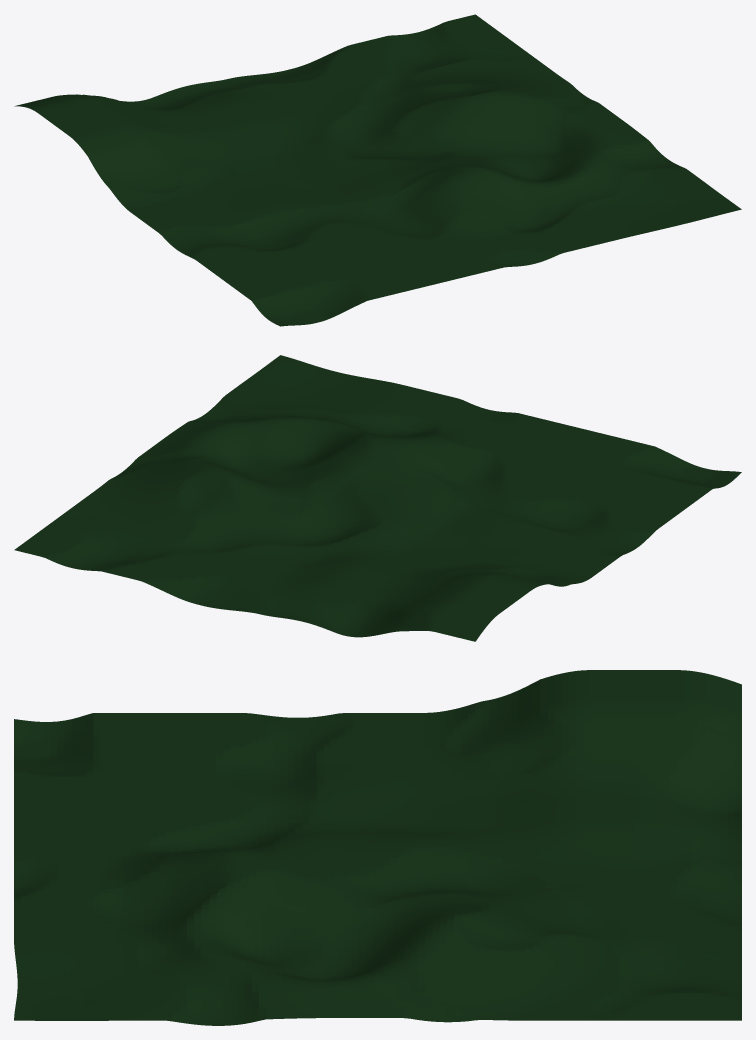
File: terrain.obj
3 renders of one model, top to bottom at view 1: azimuth 30°, elevation 25°; view 2: azimuth 150°, elevation 25°; view 3: azimuth 270°, elevation 25°, orthographic. The views are drawn at different scales.
Visible parts, largest first — view 1: Plane_Plane.001; view 2: Plane_Plane.001; view 3: Plane_Plane.001.
Boxes of the visible parts, <box> form: Plane_Plane.001: <box>14,14,741,326</box>; Plane_Plane.001: <box>14,355,741,641</box>; Plane_Plane.001: <box>14,670,741,1025</box>.
Bounding box in the file's own units: 1000 × 85.03 × 1000.
